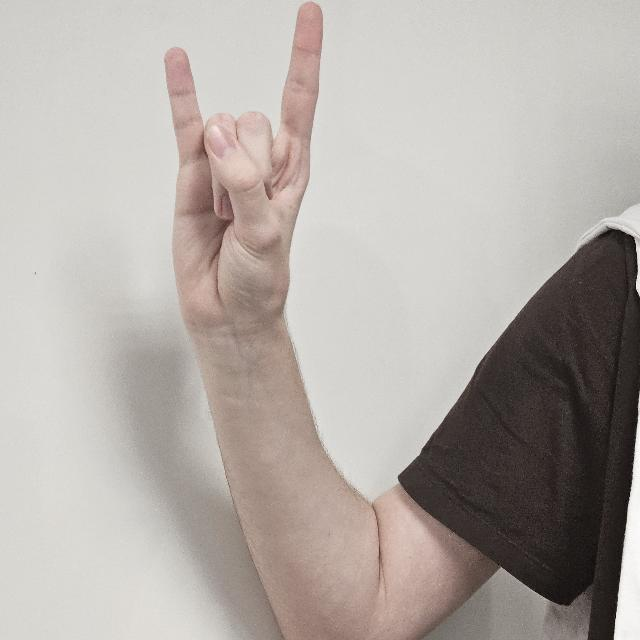L: (163, 1, 323, 366)
